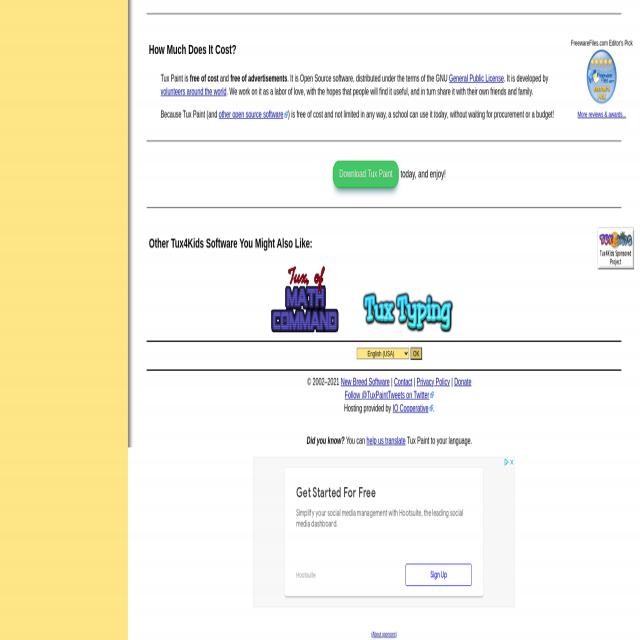button: (271, 267, 339, 332), (361, 287, 455, 332), (333, 161, 399, 188), (587, 49, 617, 104), (406, 561, 472, 585), (598, 227, 634, 270), (502, 456, 509, 468), (510, 458, 515, 467)
field: (357, 348, 409, 359), (410, 347, 422, 360)
